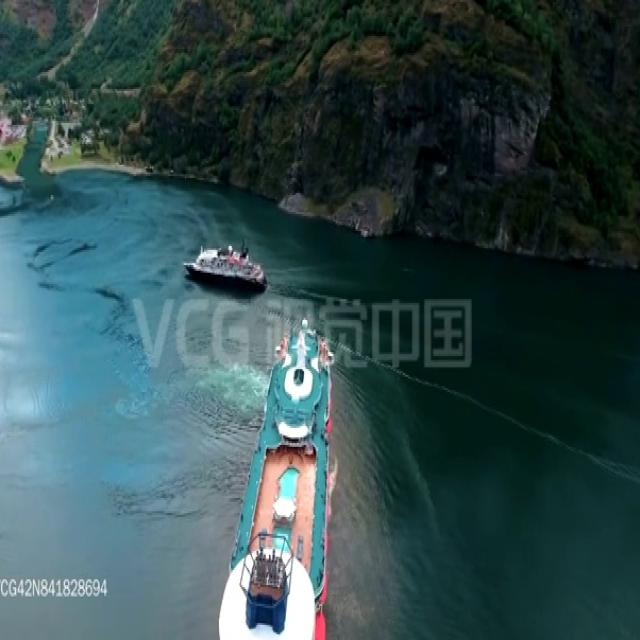passenger ship: (211, 318, 338, 640), (182, 240, 268, 291)
